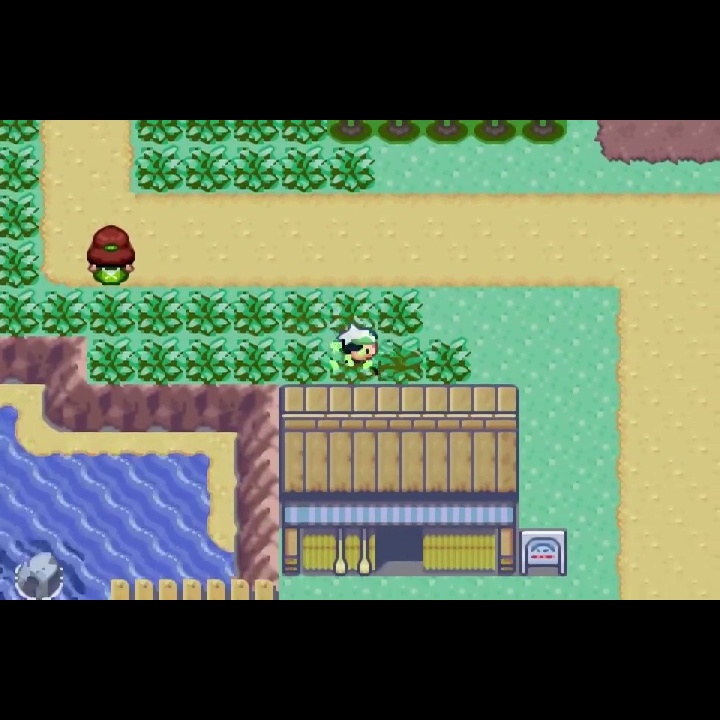grass: (134, 142, 185, 193), (278, 142, 328, 194), (184, 286, 232, 339), (231, 288, 280, 339), (136, 286, 185, 337), (424, 335, 473, 385), (327, 142, 376, 192), (280, 288, 329, 338), (88, 286, 136, 337), (39, 287, 88, 336), (184, 144, 232, 194), (376, 287, 425, 335), (329, 287, 376, 337), (87, 335, 135, 383), (183, 337, 231, 384), (232, 143, 278, 192), (231, 339, 281, 384), (136, 336, 182, 384), (380, 334, 425, 383), (281, 338, 330, 383), (1, 191, 41, 241), (1, 144, 41, 192), (1, 239, 40, 288), (1, 287, 40, 335), (184, 120, 233, 146), (231, 121, 279, 146), (134, 121, 183, 144), (1, 119, 41, 145), (279, 120, 327, 140)
house: (276, 381, 522, 579)
npc: (84, 224, 137, 288), (334, 321, 381, 379)
wall: (422, 120, 472, 147), (326, 120, 377, 145), (471, 119, 518, 146), (518, 120, 568, 145), (376, 120, 423, 146)
